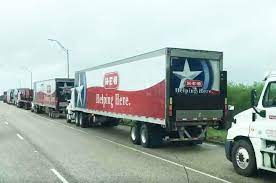truck: (66, 47, 228, 148), (30, 78, 73, 120)
